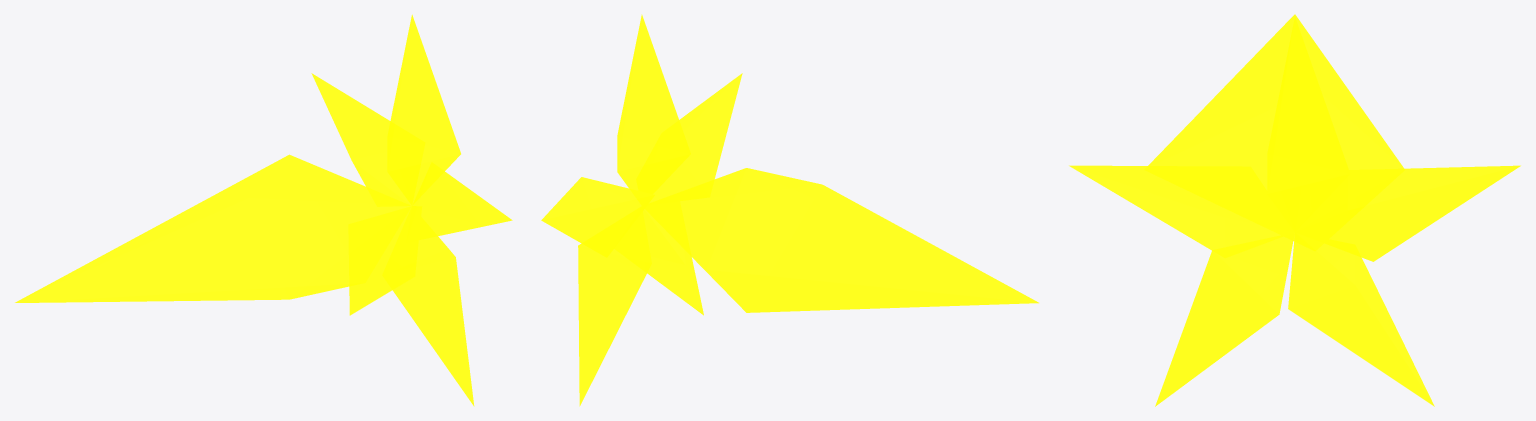
Rendered from MuzzleFlash.fbx.
The picture shows the model from 3 angles, left to right: view 1: azimuth 30°, elevation 25°; view 2: azimuth 150°, elevation 25°; view 3: azimuth 270°, elevation 25°; orthographic projection. The views are drawn at different scales.
Parts seen in each view (by area): view 1: Cylinder; view 2: Cylinder; view 3: Cylinder.
Boxes of the visible parts, bbox=[...] form: Cylinder: bbox=[15, 14, 512, 406]; Cylinder: bbox=[541, 14, 1038, 406]; Cylinder: bbox=[1069, 14, 1520, 406].
Bounding box in the file's own units: 262 × 200 × 210.
